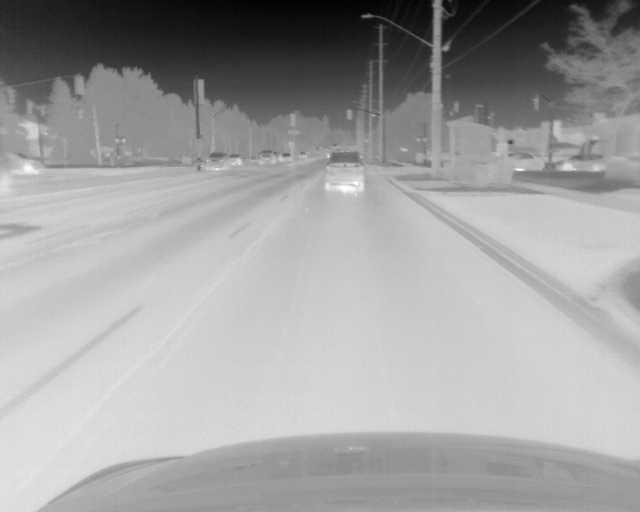car: (327, 151, 364, 192), (15, 153, 44, 176), (207, 151, 224, 165), (227, 153, 241, 167), (259, 152, 273, 163), (281, 152, 289, 161)
